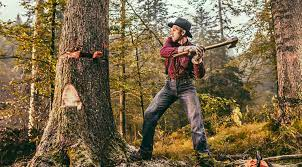person: (141, 15, 213, 160)
